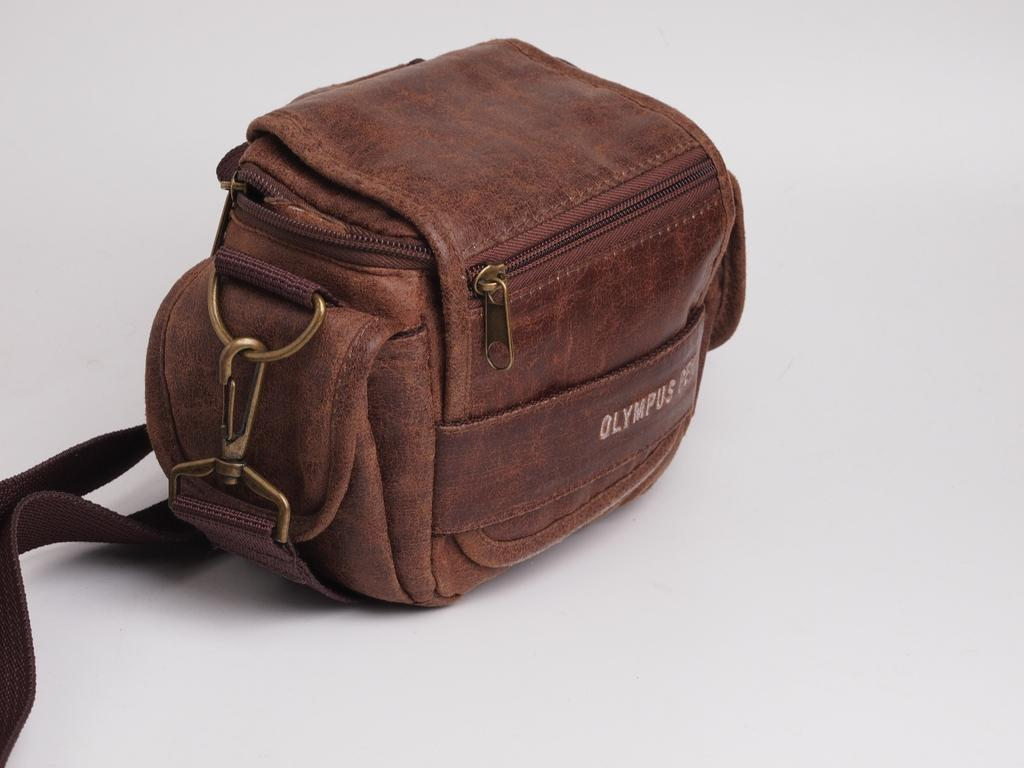Luggage-and-bags: (113, 34, 728, 621)
